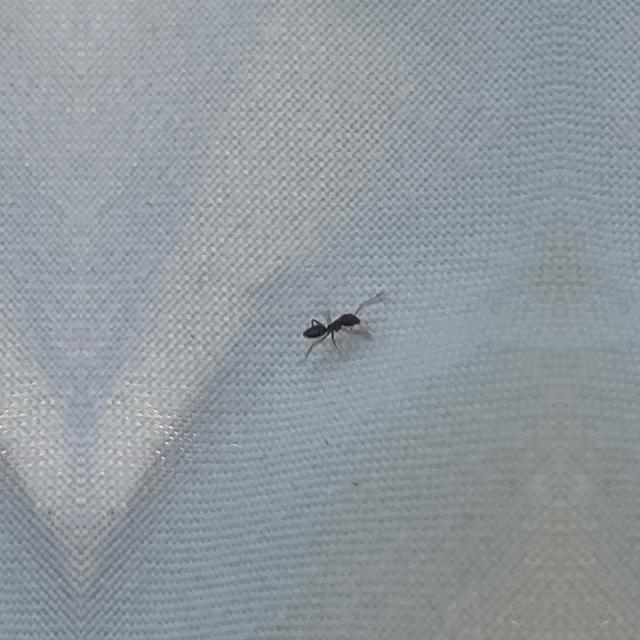Tapinoma: (297, 292, 375, 360)
